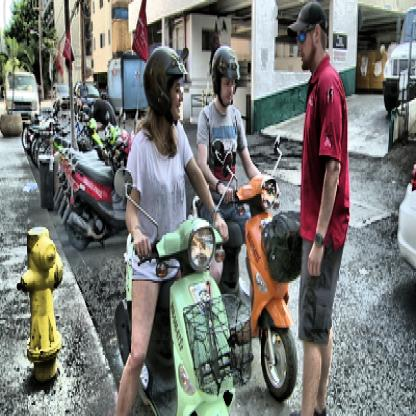not_wear: (290, 2, 324, 70)
wear: (141, 45, 184, 121), (212, 45, 240, 109)
